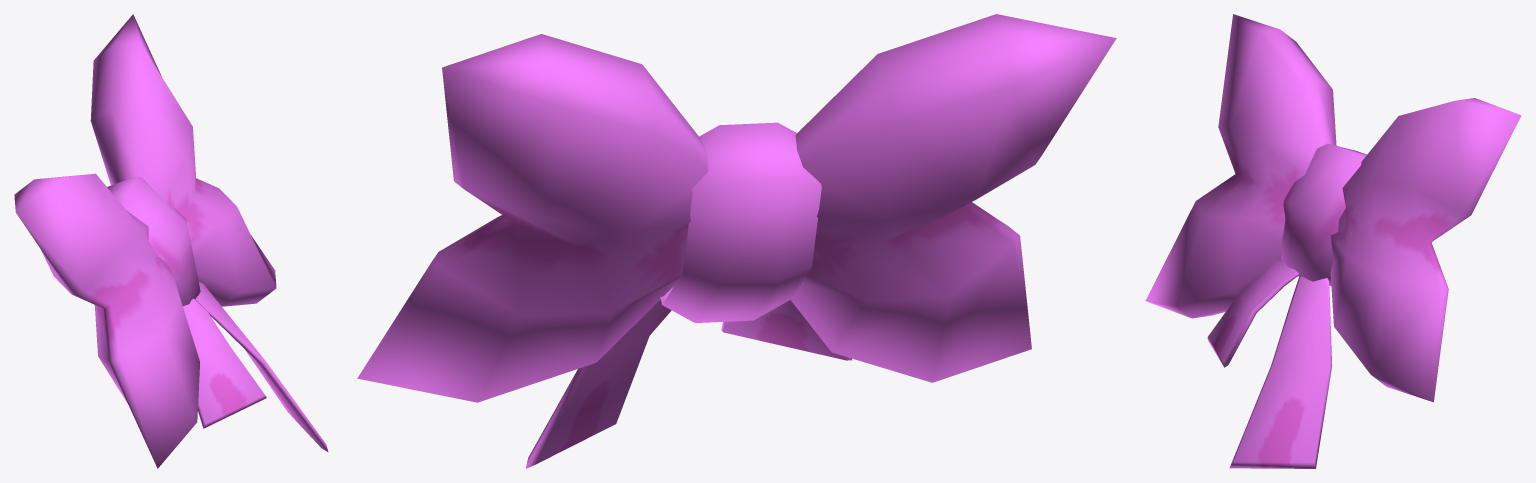
Rendered from Hair Bow.fbx.
The picture shows the model from 3 angles, left to right: view 1: azimuth 30°, elevation 25°; view 2: azimuth 150°, elevation 25°; view 3: azimuth 270°, elevation 25°; orthographic projection. The views are drawn at different scales.
Visible parts, largest first — view 1: Hair Bow; view 2: Hair Bow; view 3: Hair Bow.
Part boxes in pixels (bbox=[...]): Hair Bow: bbox=[14, 14, 328, 468]; Hair Bow: bbox=[357, 14, 1116, 468]; Hair Bow: bbox=[1145, 14, 1521, 468].
Bounding box in the file's own units: 26.9 × 24.25 × 24.81.
1 material, 1 textured.
